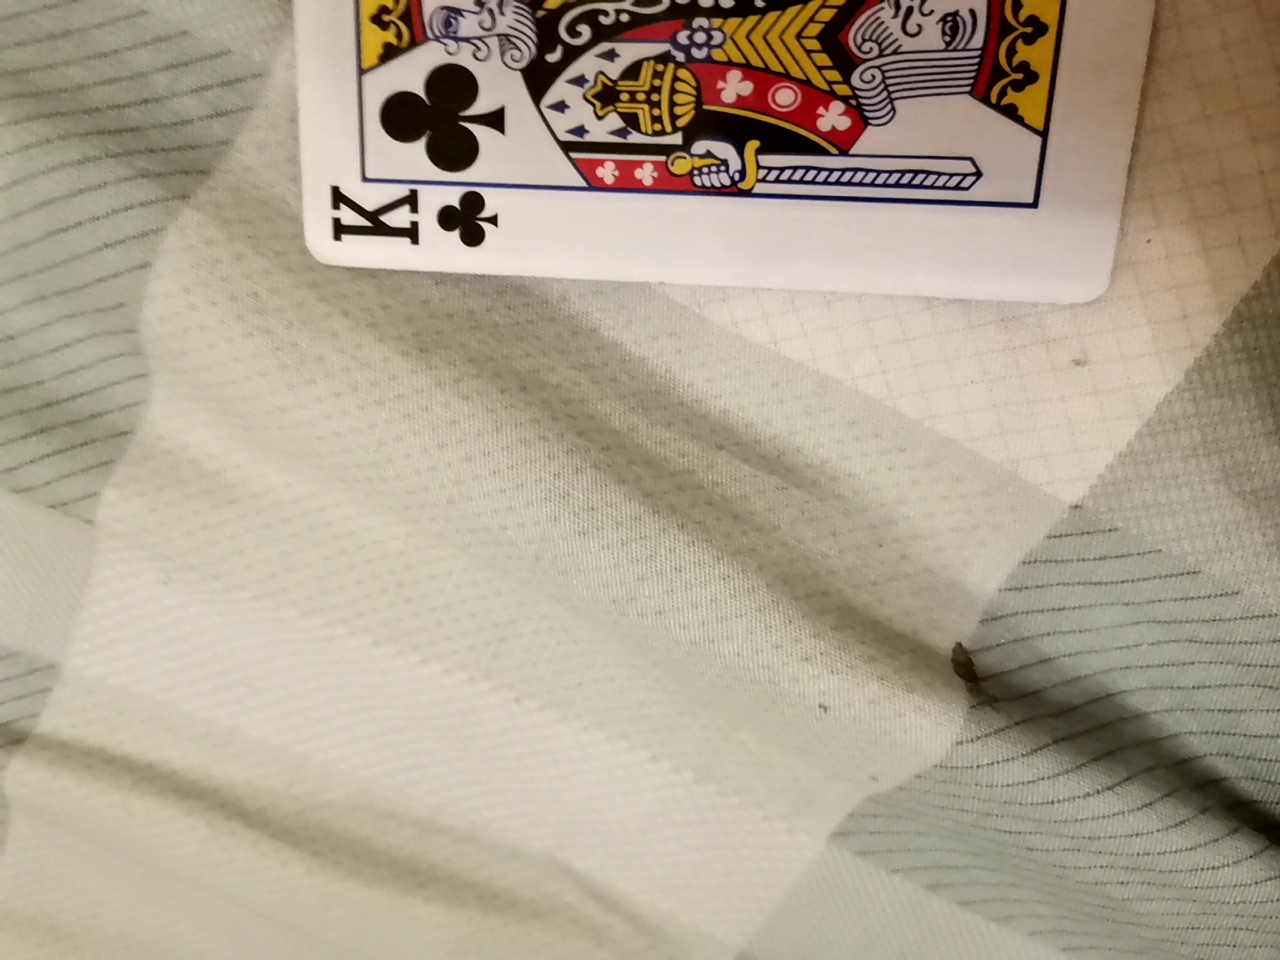mh k: (262, 0, 1173, 296)
